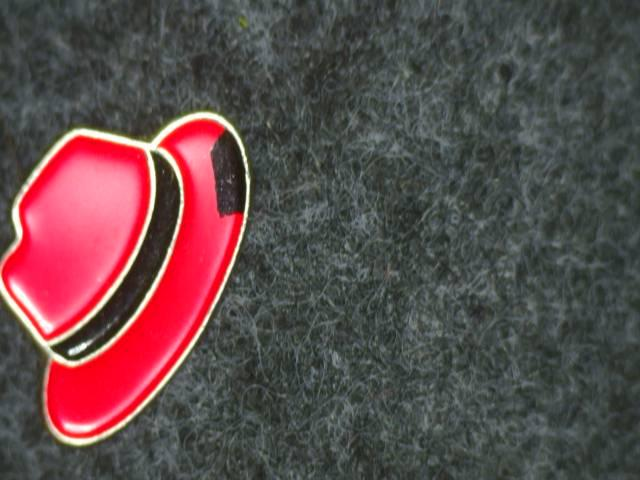Red-Hat: (0, 82, 298, 480)
Scratch: (189, 116, 271, 235)
